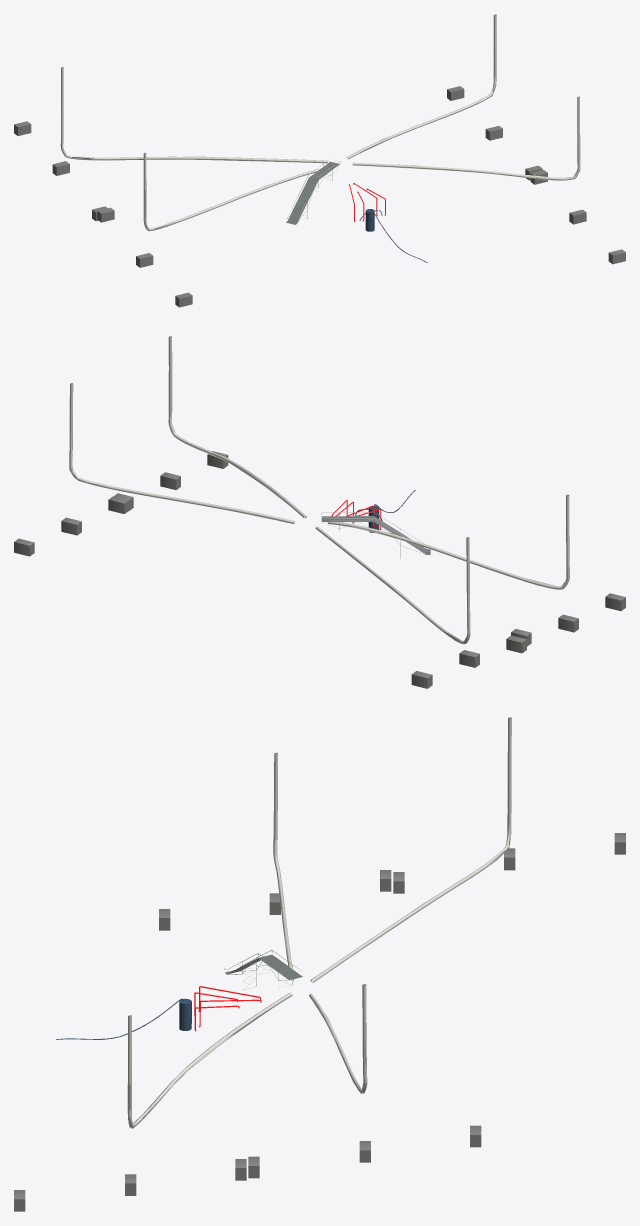
The model's file is STEMP_Station_1.glb.
3 renders of one model, top to bottom at view 1: azimuth 30°, elevation 25°; view 2: azimuth 150°, elevation 25°; view 3: azimuth 270°, elevation 25°, orthographic. The views are drawn at different scales.
Parts seen in each view (by area): view 1: Mirror_Bases_1, Pipes-Mirrors-to-Tank-Insulation_1W.001, Pipes-Mirrors-to-Tank-Insulation_1E, Pipes-Mirrors-to-Tank-Insulation_1W, Pipes-Mirrors-to-Tank-Insulation_1W.002, Pipes-Mirrors-to-Tank-Insulation_1E.001, Gangway_1, Pipes-Mirrors-to-Tank-Insulation_1E.002; view 2: Mirror_Bases_1, Pipes-Mirrors-to-Tank-Insulation_1W, Pipes-Mirrors-to-Tank-Insulation_1E, Pipes-Mirrors-to-Tank-Insulation_1W.001, Pipes-Mirrors-to-Tank-Insulation_1E.001, Pipes-Mirrors-to-Tank-Insulation_1E.002, Gangway_1, Pipes-Mirrors-to-Tank-Insulation_1W.002; view 3: Mirror_Bases_1, Pipes-Mirrors-to-Tank-Insulation_1W, Pipes-Mirrors-to-Tank-Insulation_1E.001, Pipes-Mirrors-to-Tank-Insulation_1E, Pipes-Mirrors-to-Tank-Insulation_1E.002, Pipes-Mirrors-to-Tank-Insulation_1W.001, Pipes-Mirrors-to-Tank-Insulation_1W.002, Gangway_1.
Boxes of the visible parts, box(x1,y1,x2,y2) form: Mirror_Bases_1: box(14, 86, 625, 307); Pipes-Mirrors-to-Tank-Insulation_1W.001: box(60, 75, 327, 230); Pipes-Mirrors-to-Tank-Insulation_1E: box(347, 20, 580, 180); Pipes-Mirrors-to-Tank-Insulation_1W: box(60, 67, 327, 230); Pipes-Mirrors-to-Tank-Insulation_1W.002: box(61, 67, 328, 231); Pipes-Mirrors-to-Tank-Insulation_1E.001: box(347, 14, 580, 180); Gangway_1: box(286, 161, 340, 224); Pipes-Mirrors-to-Tank-Insulation_1E.002: box(347, 14, 580, 180); Mirror_Bases_1: box(14, 451, 625, 688); Pipes-Mirrors-to-Tank-Insulation_1W: box(316, 495, 569, 644); Pipes-Mirrors-to-Tank-Insulation_1E: box(69, 336, 306, 523); Pipes-Mirrors-to-Tank-Insulation_1W.001: box(316, 494, 569, 643); Pipes-Mirrors-to-Tank-Insulation_1E.001: box(69, 336, 306, 523); Pipes-Mirrors-to-Tank-Insulation_1E.002: box(69, 336, 306, 523); Gangway_1: box(321, 512, 430, 558); Pipes-Mirrors-to-Tank-Insulation_1W.002: box(316, 494, 569, 643); Mirror_Bases_1: box(14, 833, 625, 1211); Pipes-Mirrors-to-Tank-Insulation_1W: box(273, 719, 511, 983); Pipes-Mirrors-to-Tank-Insulation_1E.001: box(127, 984, 367, 1127); Pipes-Mirrors-to-Tank-Insulation_1E: box(127, 984, 367, 1127); Pipes-Mirrors-to-Tank-Insulation_1E.002: box(128, 984, 367, 1128); Pipes-Mirrors-to-Tank-Insulation_1W.001: box(273, 717, 511, 982); Pipes-Mirrors-to-Tank-Insulation_1W.002: box(273, 717, 511, 982); Gangway_1: box(224, 950, 302, 989).
Size of what is drawn, in the model's own units: 131 by 50.32 by 124.
